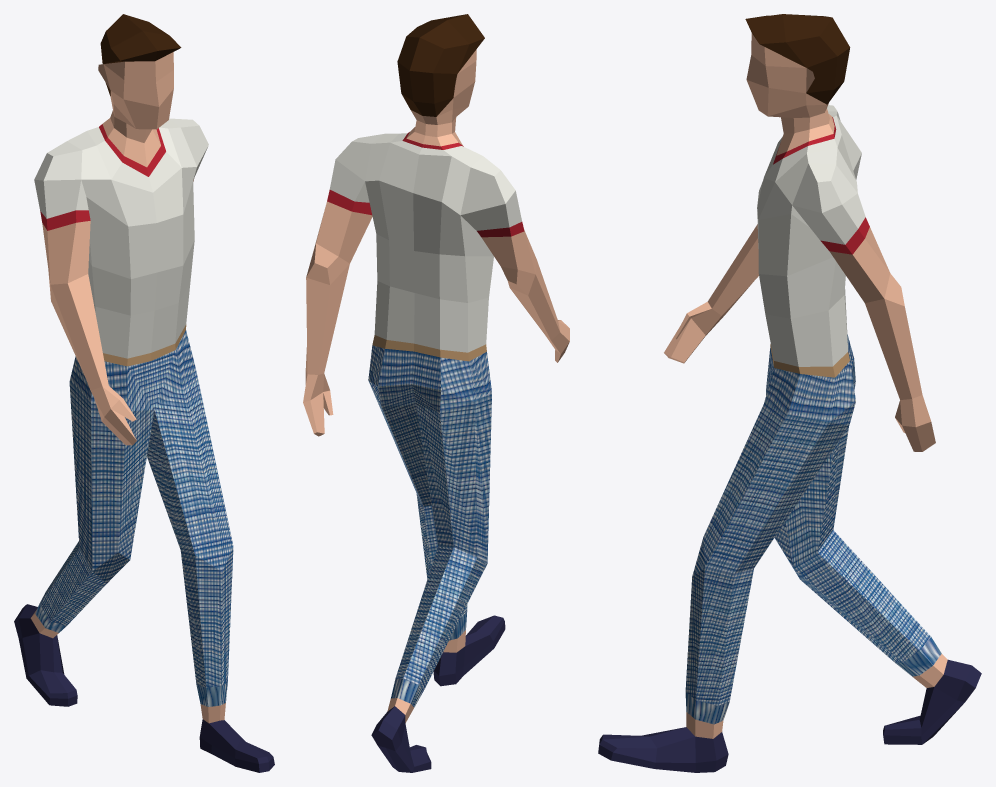
File: SpringManB.003.glb
3 renders of one model, left to right at view 1: azimuth 30°, elevation 25°; view 2: azimuth 150°, elevation 25°; view 3: azimuth 270°, elevation 25°, orthographic. The views are drawn at different scales.
Parts seen in each view (by area): view 1: SpringManB.003; view 2: SpringManB.003; view 3: SpringManB.003.
Boxes of the visible parts, <box> form: SpringManB.003: <box>14,14,274,772</box>; SpringManB.003: <box>303,14,569,772</box>; SpringManB.003: <box>598,14,981,772</box>.
Bounding box in the file's own units: 0.4551 × 1.71 × 0.8018.
1 material, 1 textured.
